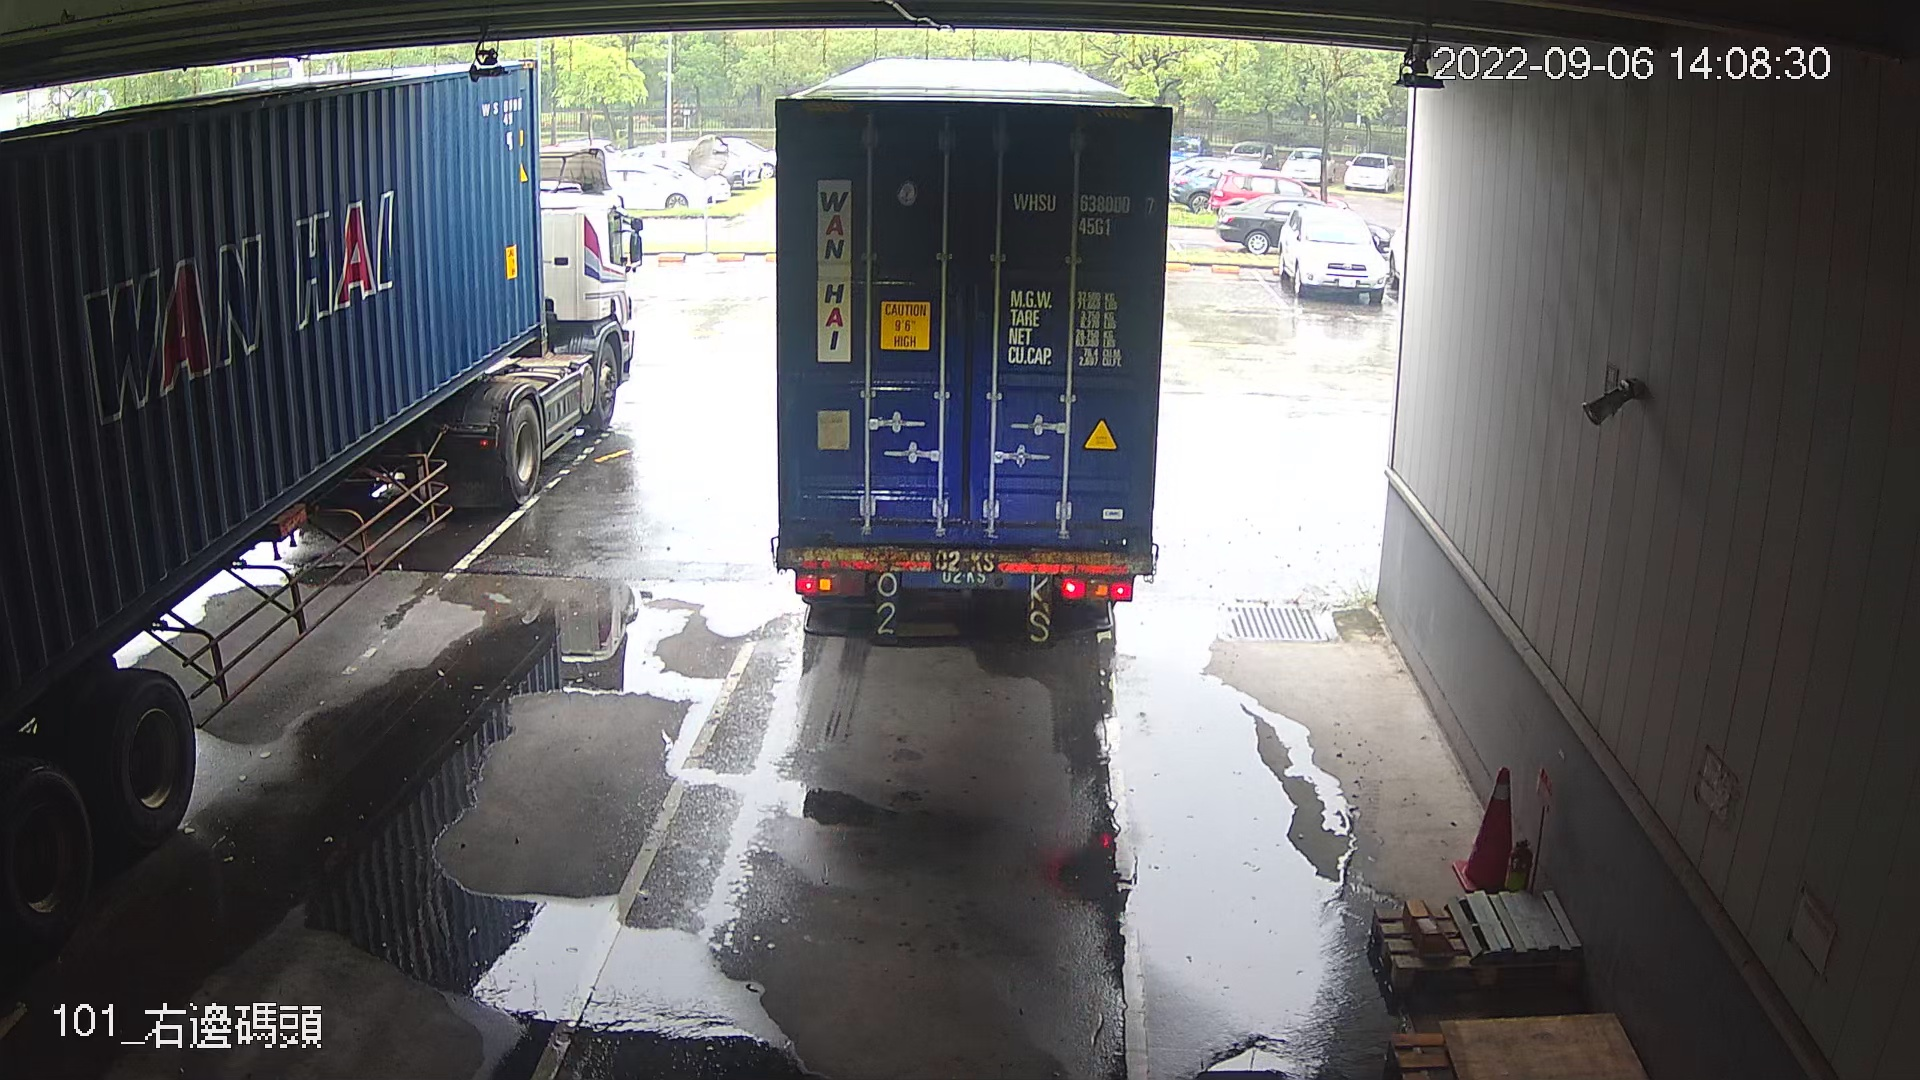container: (1004, 179, 1160, 247)
